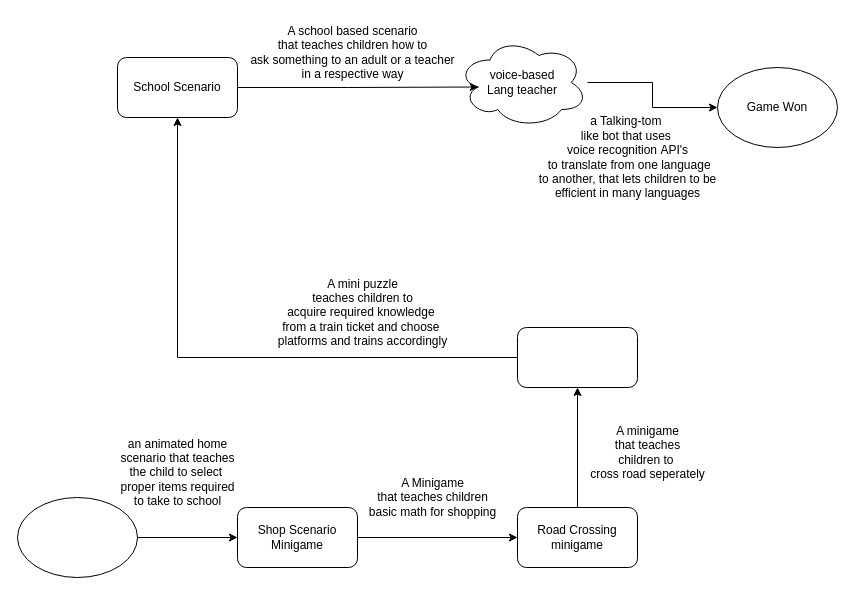
This 855x595 diagram has some shape labels left out. Here are the shapes that lost their labels. From the top down, the box of each, then its label:
(516, 326, 638, 388): Railway Station minigame
(16, 496, 138, 578): Maze start from home
